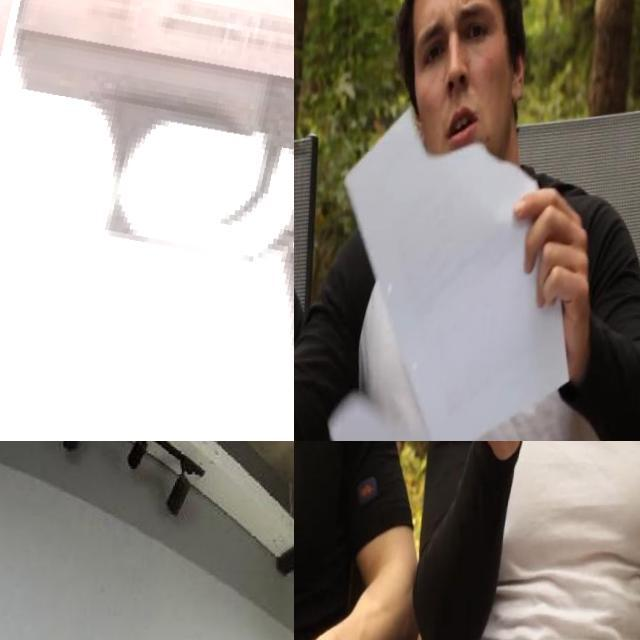-: (433, 441, 601, 535), (294, 168, 341, 441)
gun-knife-thesis - v11 Yolov5 augmented: (0, 0, 294, 441)
